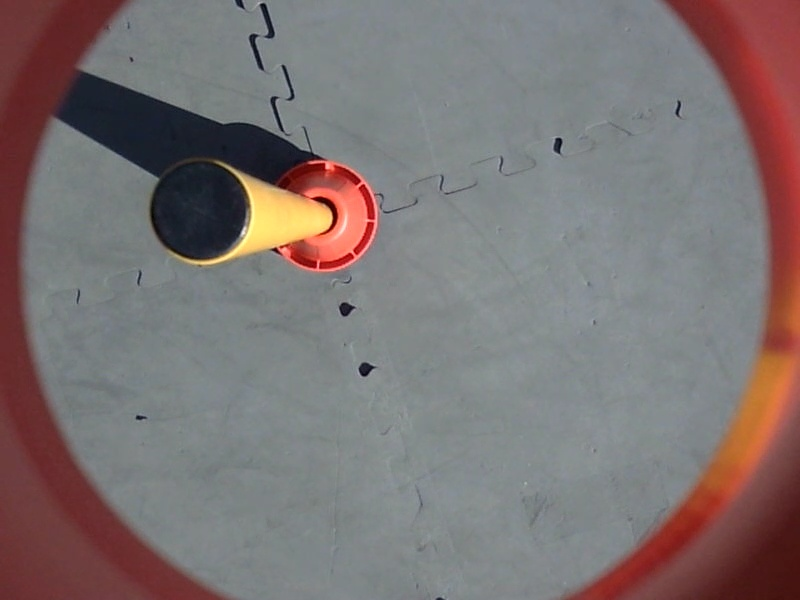tip: (147, 154, 263, 270)
